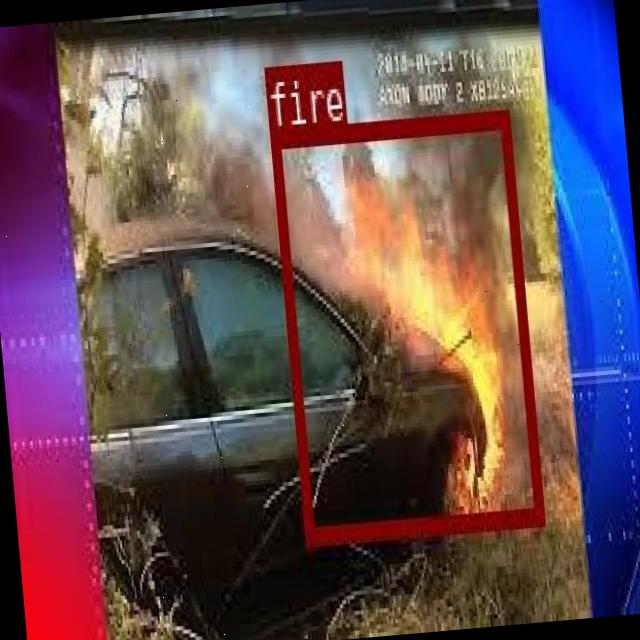fire: (269, 107, 542, 540)
